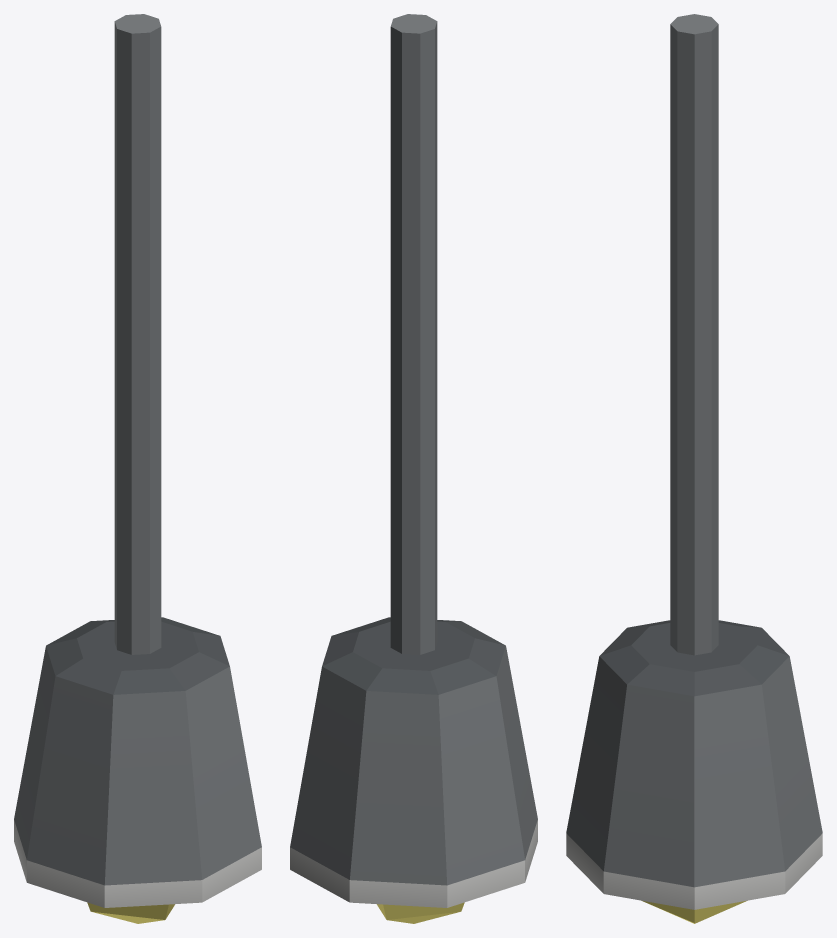
File: celing_light.fbx
The picture shows the model from 3 angles, left to right: view 1: azimuth 30°, elevation 25°; view 2: azimuth 150°, elevation 25°; view 3: azimuth 270°, elevation 25°; orthographic projection.
Visible parts, largest first — view 1: celing_light; view 2: celing_light; view 3: celing_light.
Part boxes in pixels (<box>): celing_light: <box>14,14,261,923</box>; celing_light: <box>290,14,537,923</box>; celing_light: <box>566,14,822,923</box>.
Bounding box in the file's own units: 1.03 × 4 × 1.03.
Materials: 1 (1 with a texture image).
